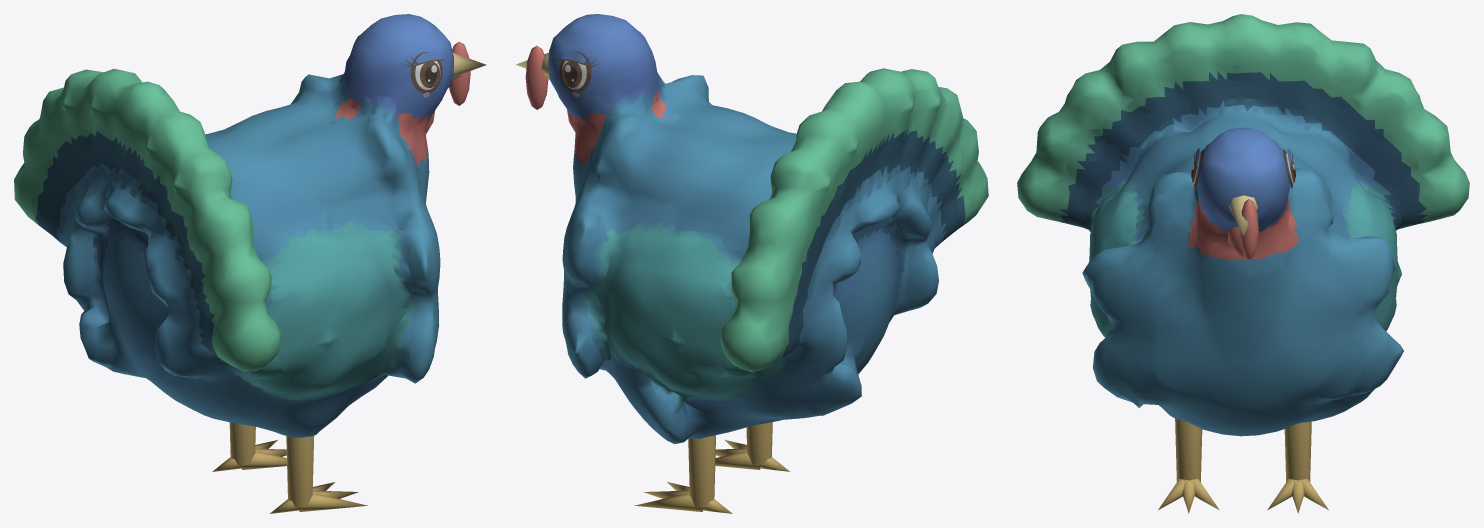
File: peacock_turkey.glb
The picture shows the model from 3 angles, left to right: view 1: azimuth 30°, elevation 25°; view 2: azimuth 150°, elevation 25°; view 3: azimuth 270°, elevation 25°; orthographic projection. The views are drawn at different scales.
Visible parts, largest first — view 1: peacock_turkey; view 2: peacock_turkey; view 3: peacock_turkey.
Part boxes in pixels (left/top/right/bottom): peacock_turkey: left=14, top=14, right=486, bottom=513; peacock_turkey: left=515, top=14, right=988, bottom=513; peacock_turkey: left=1017, top=14, right=1469, bottom=513.
Bounding box in the file's own units: 0.6986 × 0.7724 × 0.7615.
